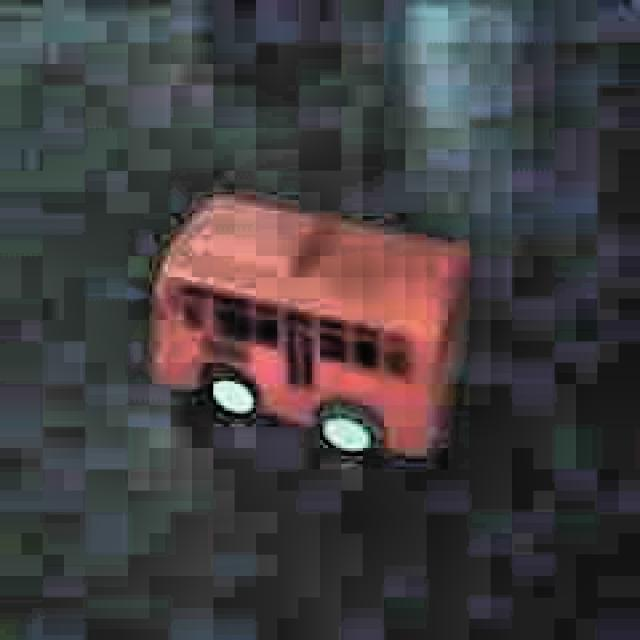bus: (143, 188, 474, 466)
